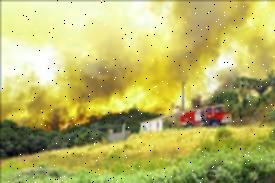fire: (27, 93, 118, 129)
